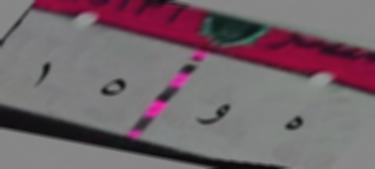1: (28, 52, 60, 100)
5: (94, 66, 134, 113)
haa: (275, 110, 311, 138)
waw: (184, 96, 237, 134)
